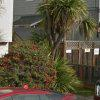Tree: (36, 1, 86, 78)
